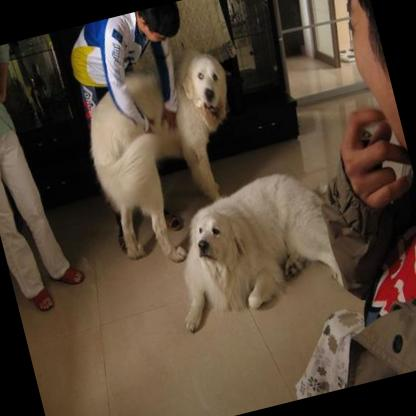Great_Pyrenees: (73, 45, 261, 269), (151, 162, 353, 336)
